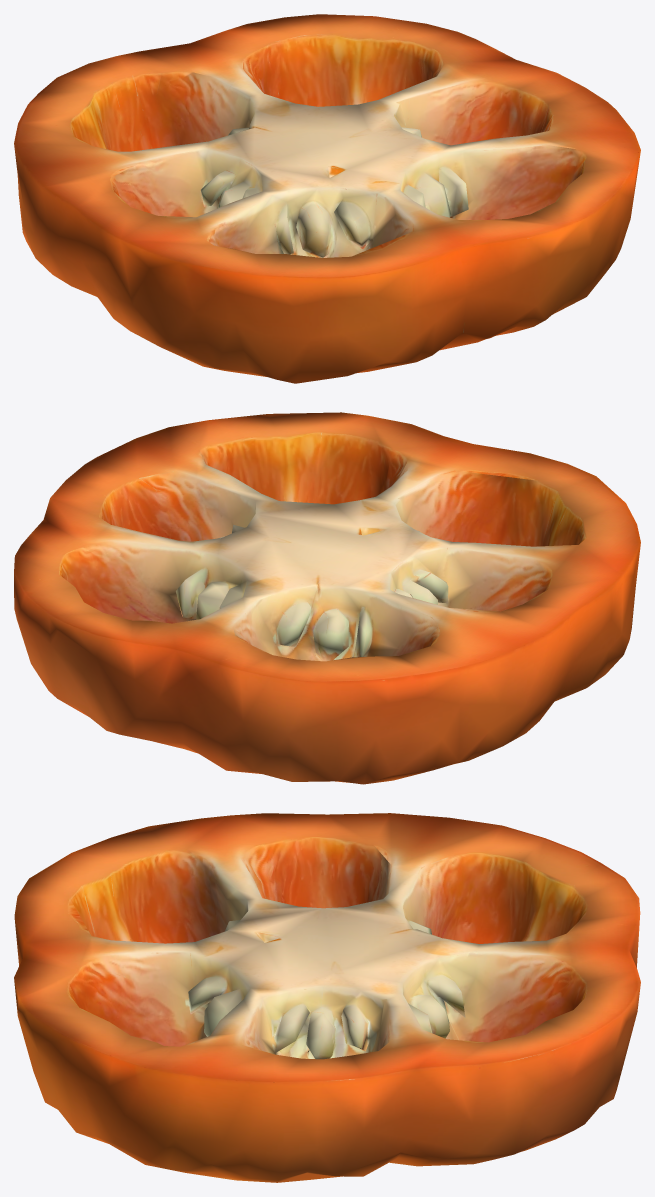
The model's file is orange_bell_pepper (1).glb.
3 renders of one model, top to bottom at view 1: azimuth 30°, elevation 25°; view 2: azimuth 150°, elevation 25°; view 3: azimuth 270°, elevation 25°, orthographic. The views are drawn at different scales.
Visible parts, largest first — view 1: Mesh10; view 2: Mesh10; view 3: Mesh10.
Part boxes in pixels (x1,y1,x2,y2): Mesh10: (14, 14, 640, 383); Mesh10: (14, 412, 640, 784); Mesh10: (14, 813, 640, 1182).
Bounding box in the file's own units: 1.91 × 0.4205 × 1.88.
1 material, 1 textured.
